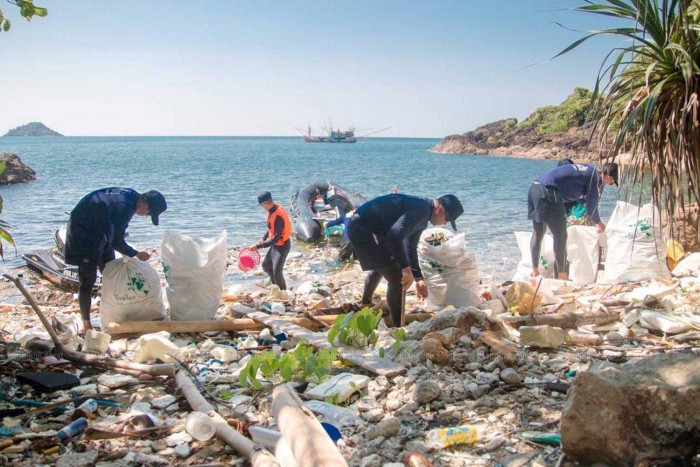plastic_bagwdw: (157, 187, 262, 402), (590, 130, 681, 342), (404, 196, 498, 371), (73, 239, 169, 360), (495, 212, 570, 345), (552, 186, 601, 321)
